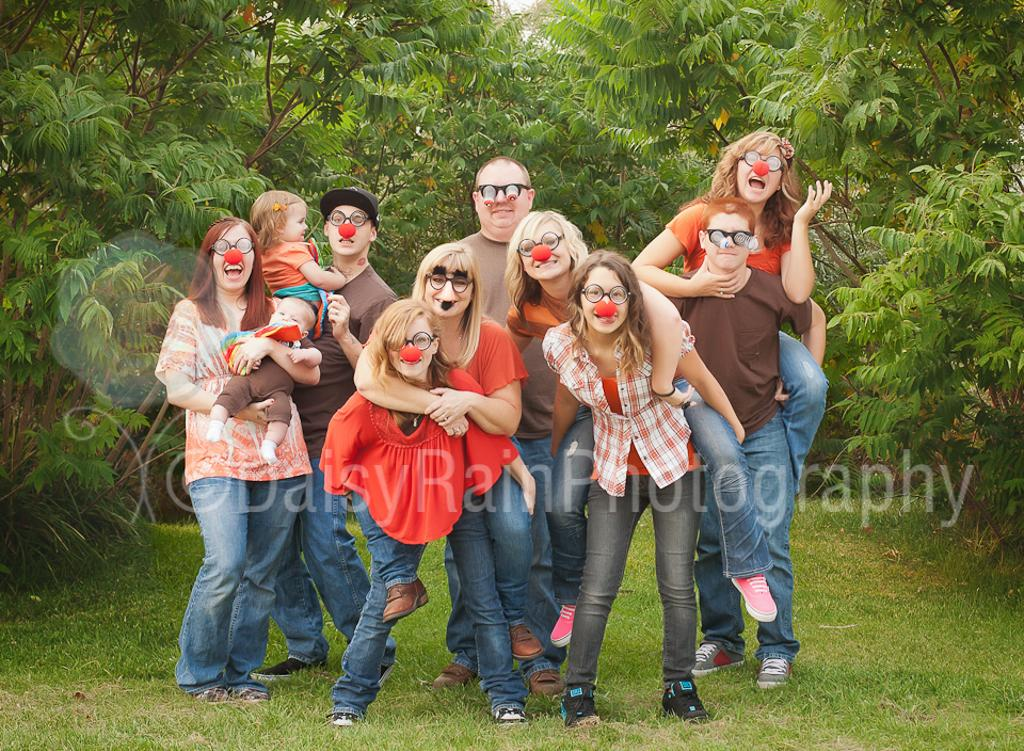face: (581, 274, 629, 333), (475, 174, 528, 227), (519, 226, 570, 278), (211, 230, 253, 289), (424, 265, 472, 316), (387, 323, 431, 375), (706, 218, 750, 269), (328, 204, 371, 254), (738, 150, 780, 200), (270, 306, 305, 335), (283, 205, 307, 242)
